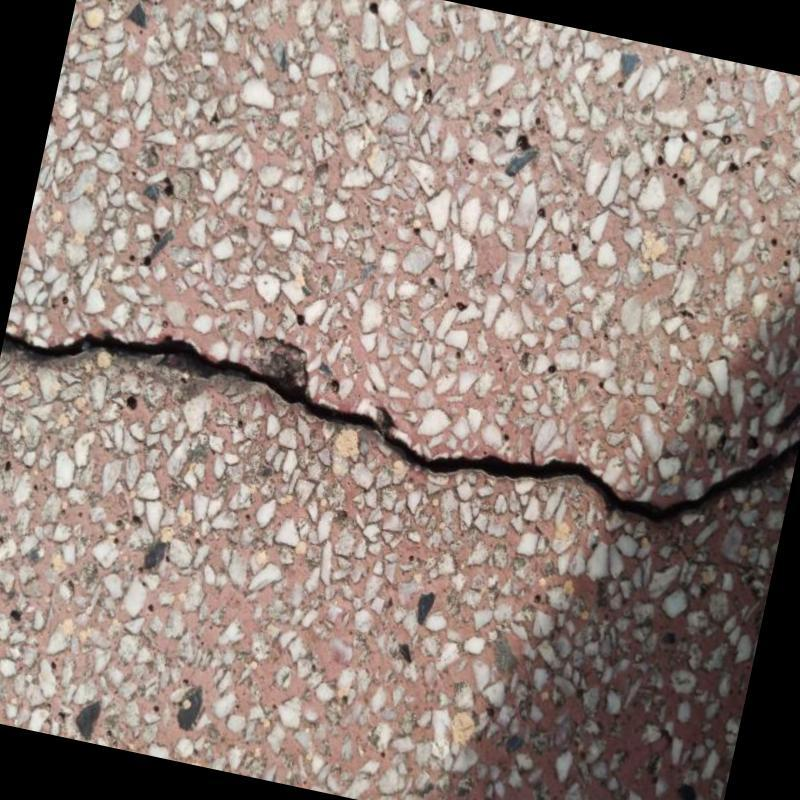pothole: (3, 335, 800, 523)
